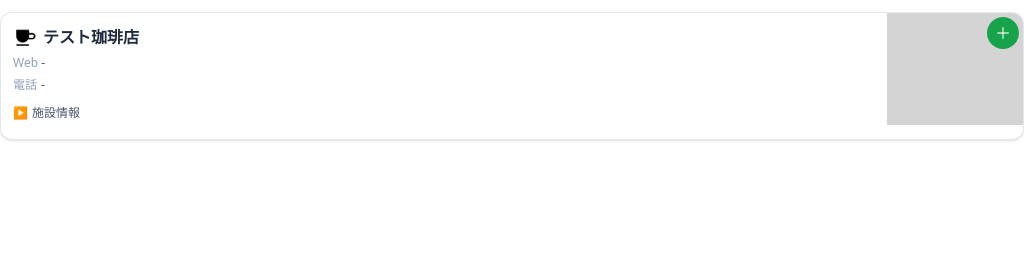
Test: MobileFacilityCard: 地図サムネイル（showMapThumb） › メモ帳追加ボタンは地図サムネイルの右上にあり、店舗を選択せず登録できる
Later steps or results of the test are not shown.
Expected: the element showing "Web -" is shown, [13,54,45,71]
What coordinates should you click on to do the following:
click the button "▶ 施設情報"
I would click on:
 (46, 113)
Its box is [13,99,80,127].
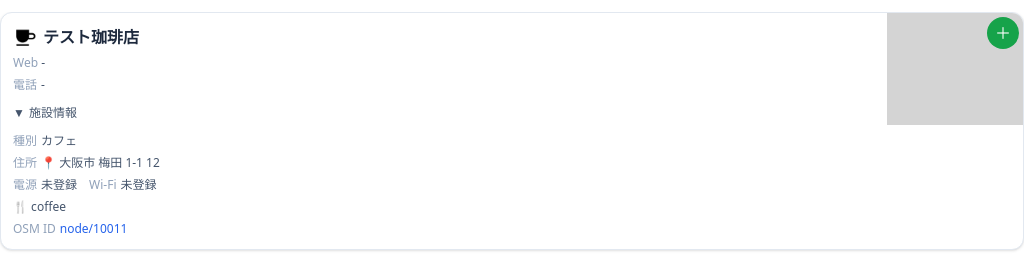
Result: the text "住所" is shown at [13,154,37,171]
What coordinates should you click on to do the following:
click the button named "メモ帳に追加"
I would click on:
 (1003, 33)
Its box is [987,17,1019,49].
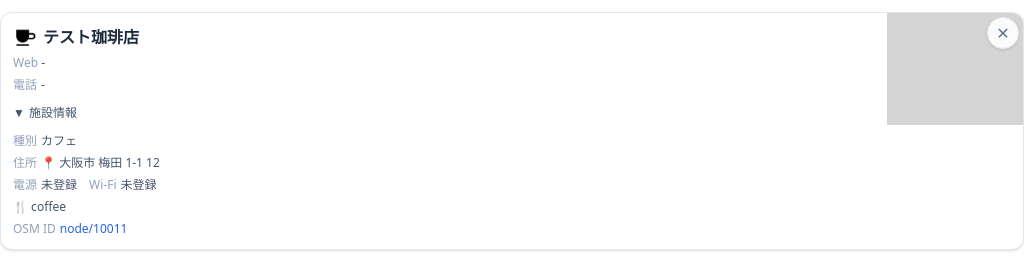
Result: the button named "メモ帳に追加" is pressed at [987,17,1019,49]
